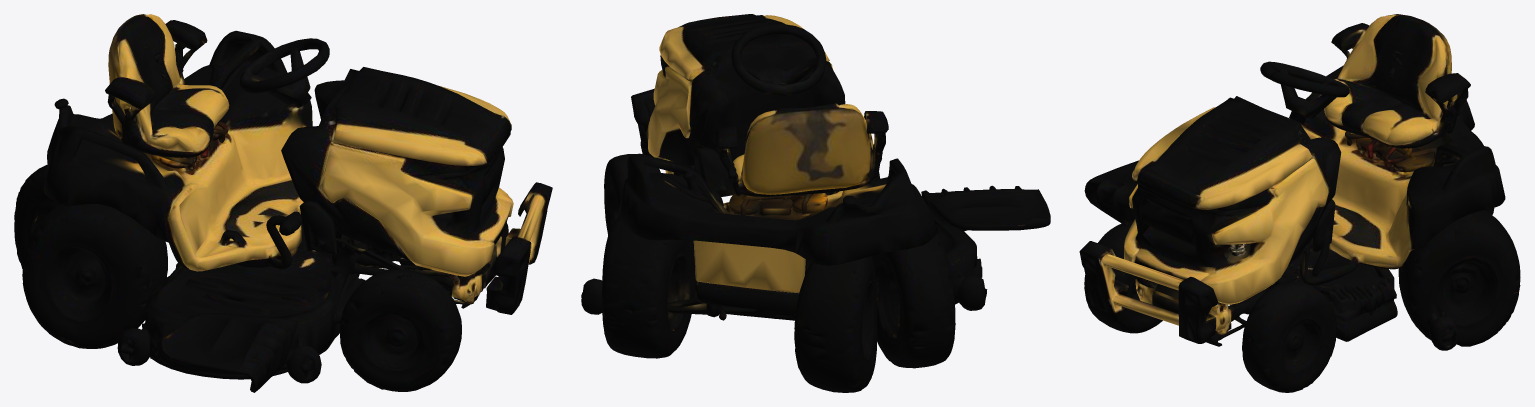
File: mower-xt2.glb
The picture shows the model from 3 angles, left to right: view 1: azimuth 30°, elevation 25°; view 2: azimuth 150°, elevation 25°; view 3: azimuth 270°, elevation 25°; orthographic projection. The views are drawn at different scales.
Parts seen in each view (by area): view 1: material; view 2: material; view 3: material.
Part boxes in pixels (x1,y1,x2,y2): material: (14, 14, 552, 392); material: (581, 14, 1050, 392); material: (1079, 14, 1520, 392).
Bounding box in the file's own units: 1 × 0.6157 × 0.9648.
1 material, 1 textured.
